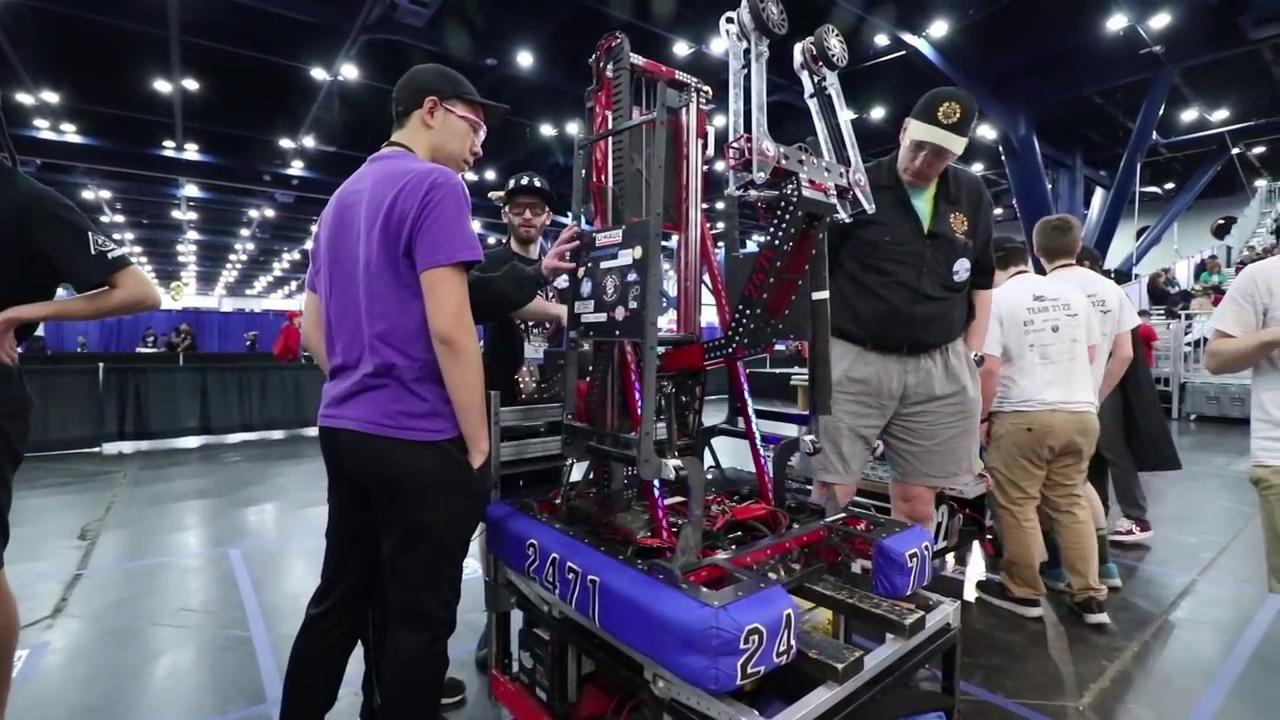robot: (480, 24, 936, 697)
